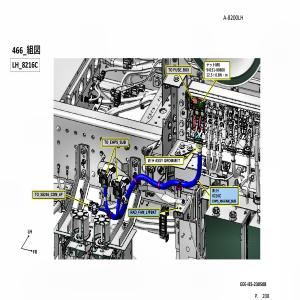PartNumber: (206, 67, 225, 72)
